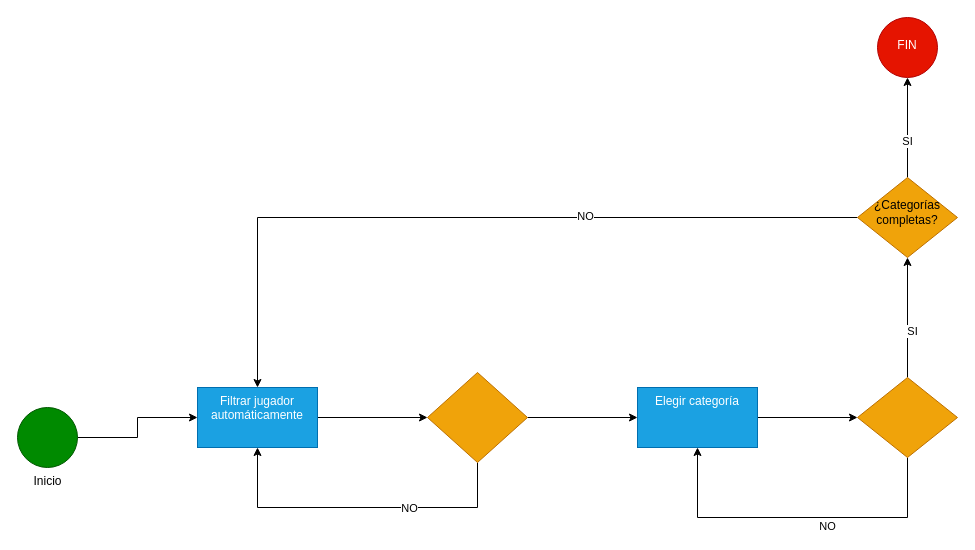
This 975x550 diagram has some shape labels left out. Each missing label, with the box of its shape:
¿Categoría asignada?: (856, 376, 958, 458)
¿Jugador seleccionado?: (426, 372, 528, 462)
